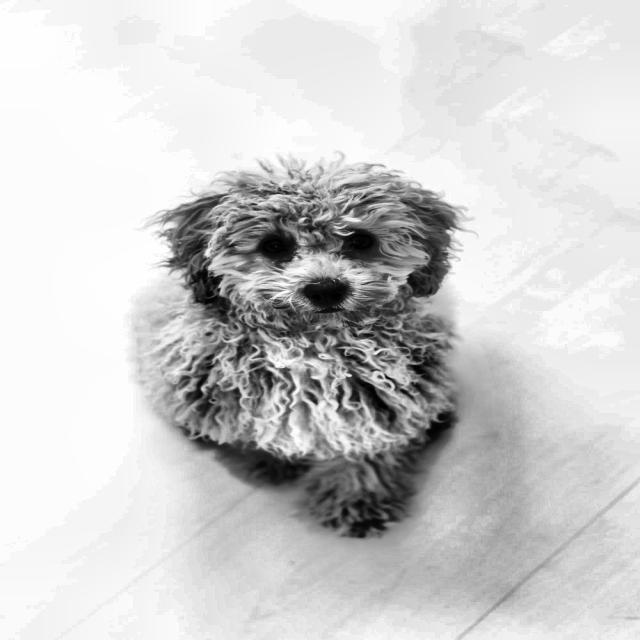poodle: (121, 146, 478, 352)
